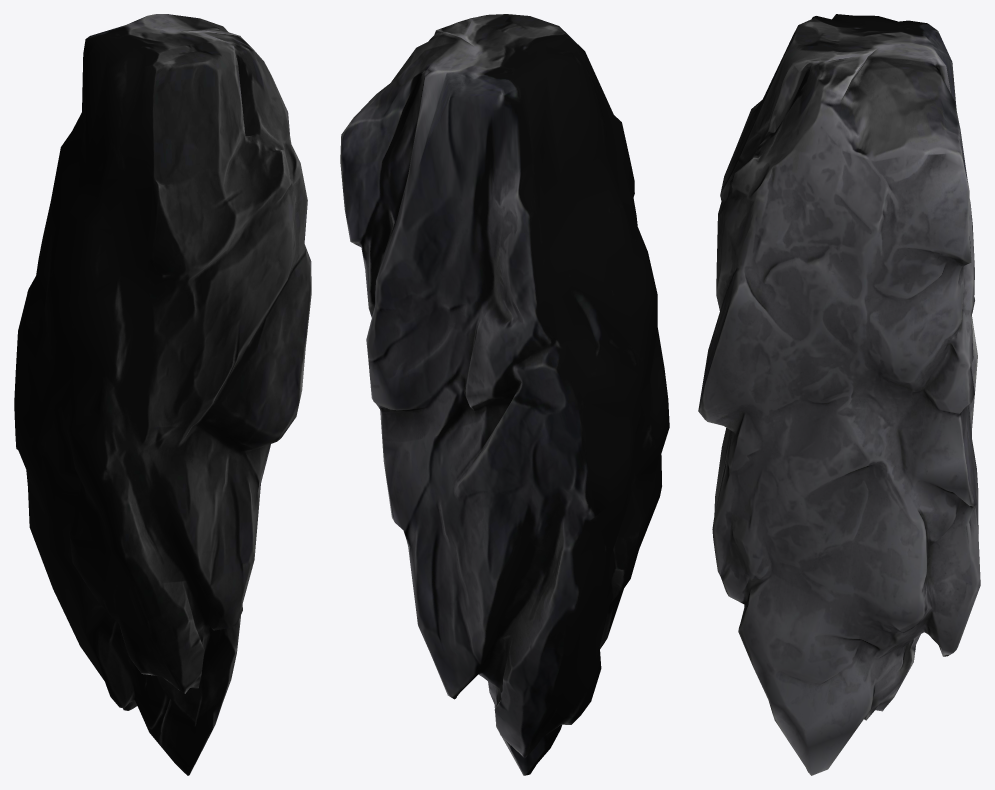
File: rock_bright.glb
The picture shows the model from 3 angles, left to right: view 1: azimuth 30°, elevation 25°; view 2: azimuth 150°, elevation 25°; view 3: azimuth 270°, elevation 25°; orthographic projection. The views are drawn at different scales.
Visible parts, largest first — view 1: SM_LandscapePieceDark2.002; view 2: SM_LandscapePieceDark2.002; view 3: SM_LandscapePieceDark2.002.
Boxes of the visible parts, left/top/right/bottom form: SM_LandscapePieceDark2.002: left=14, top=14, right=311, bottom=775; SM_LandscapePieceDark2.002: left=340, top=14, right=669, bottom=775; SM_LandscapePieceDark2.002: left=698, top=14, right=980, bottom=775.
Size of the model in its own units: 4.04 by 11.53 by 3.98.
Materials: 1 (1 with a texture image).
